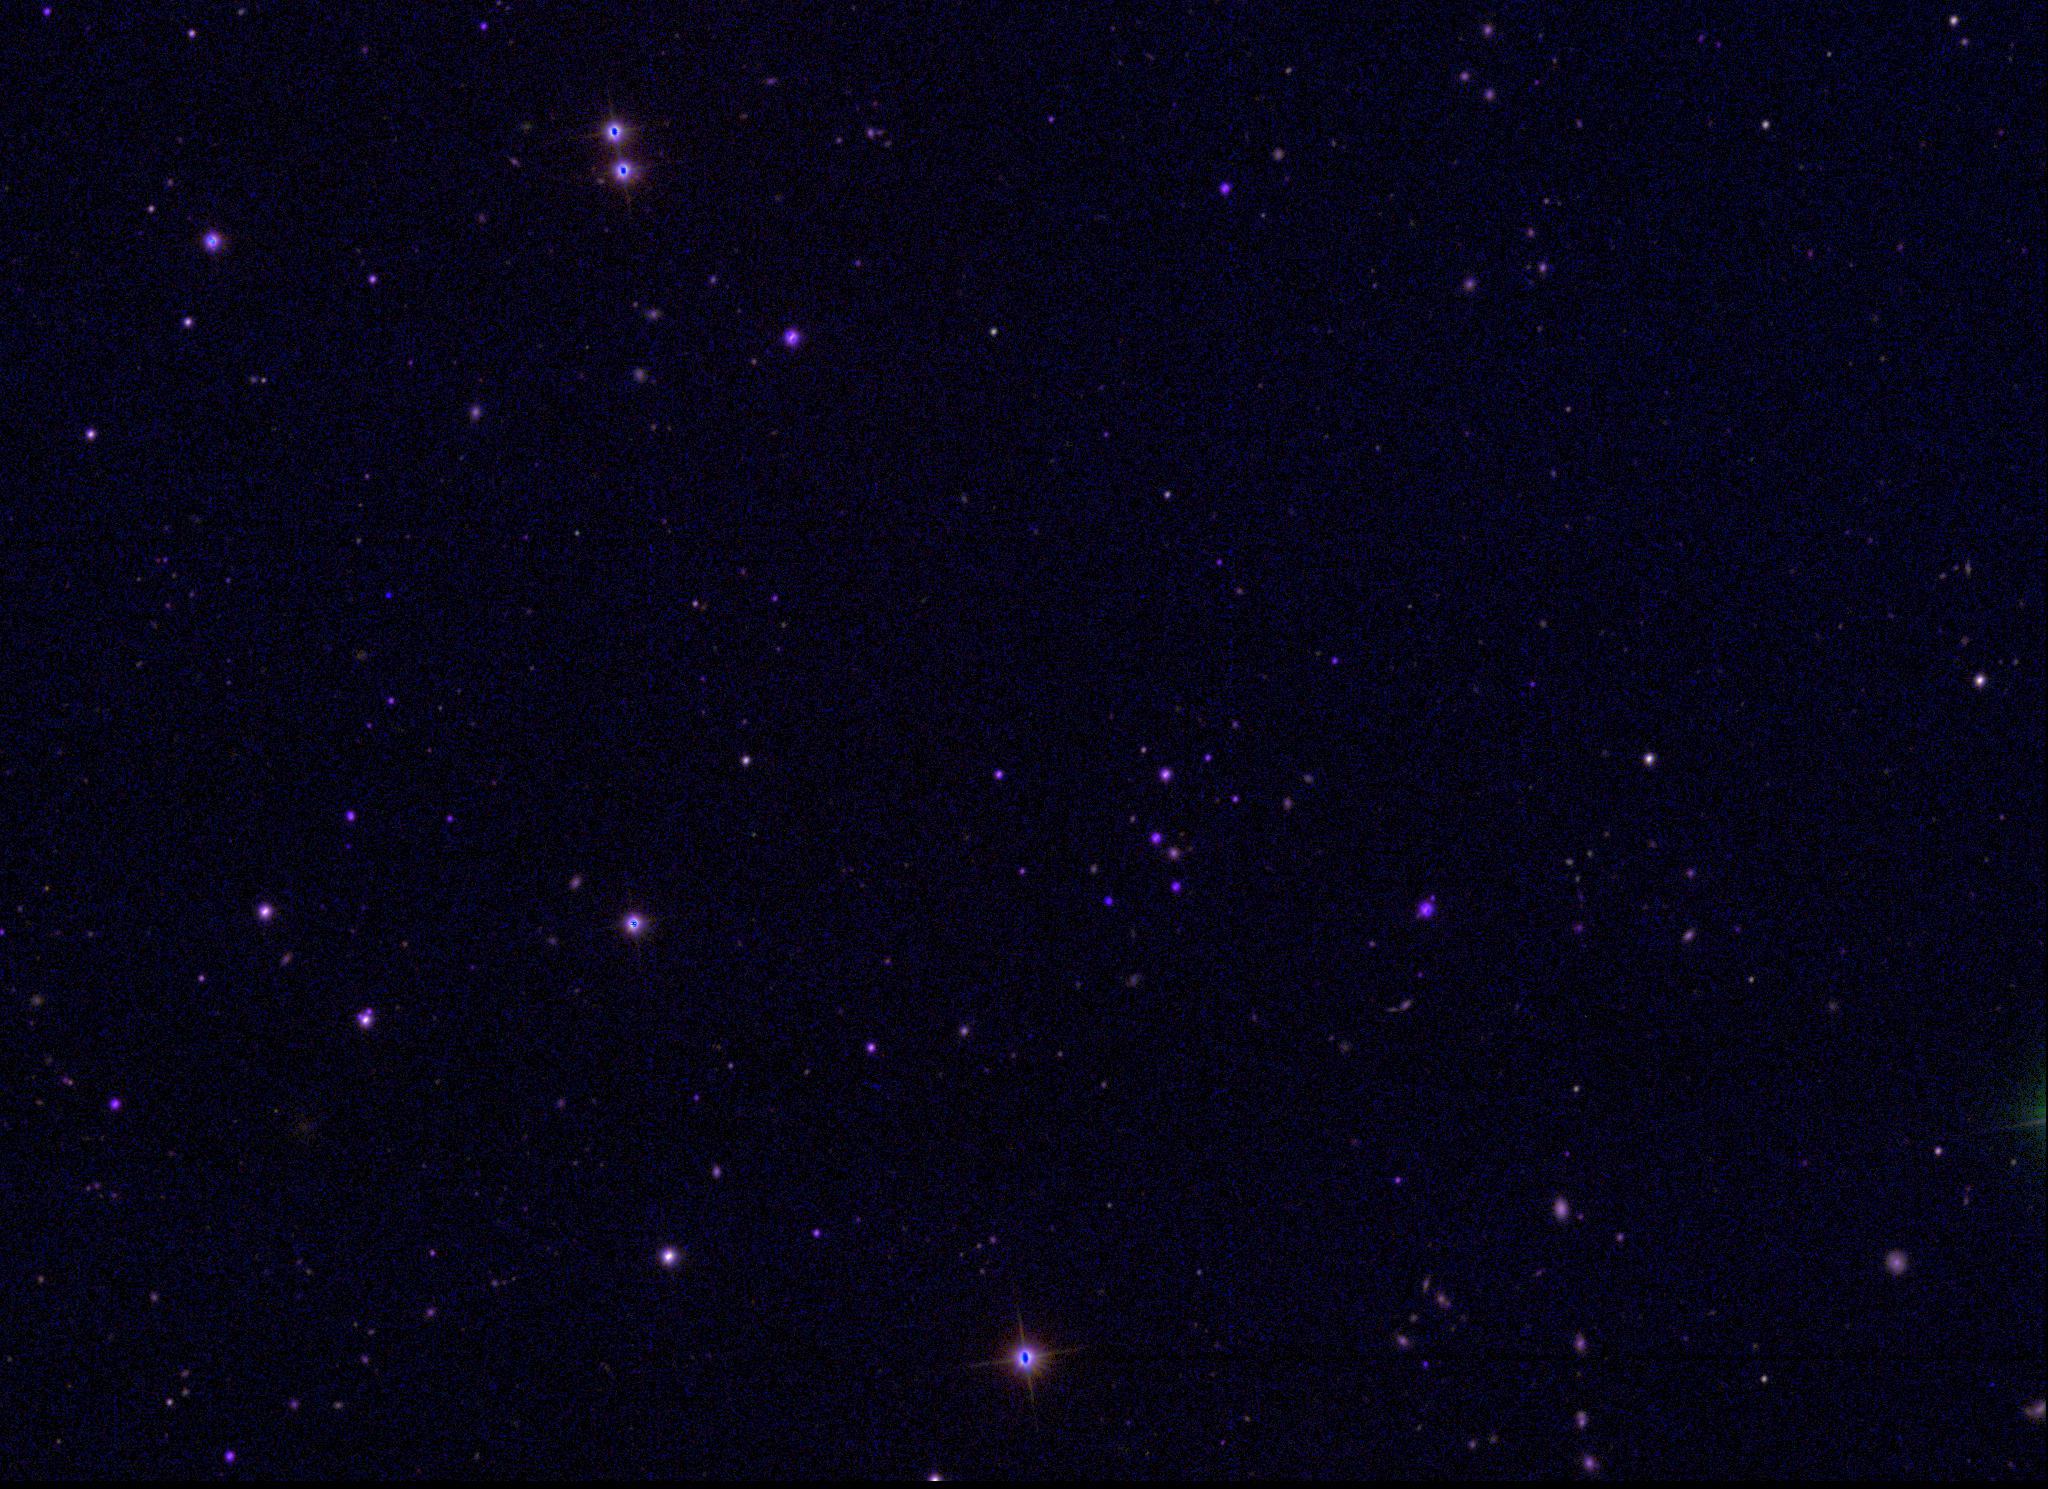L: (382, 585, 396, 600), (1986, 1378, 2000, 1392)
